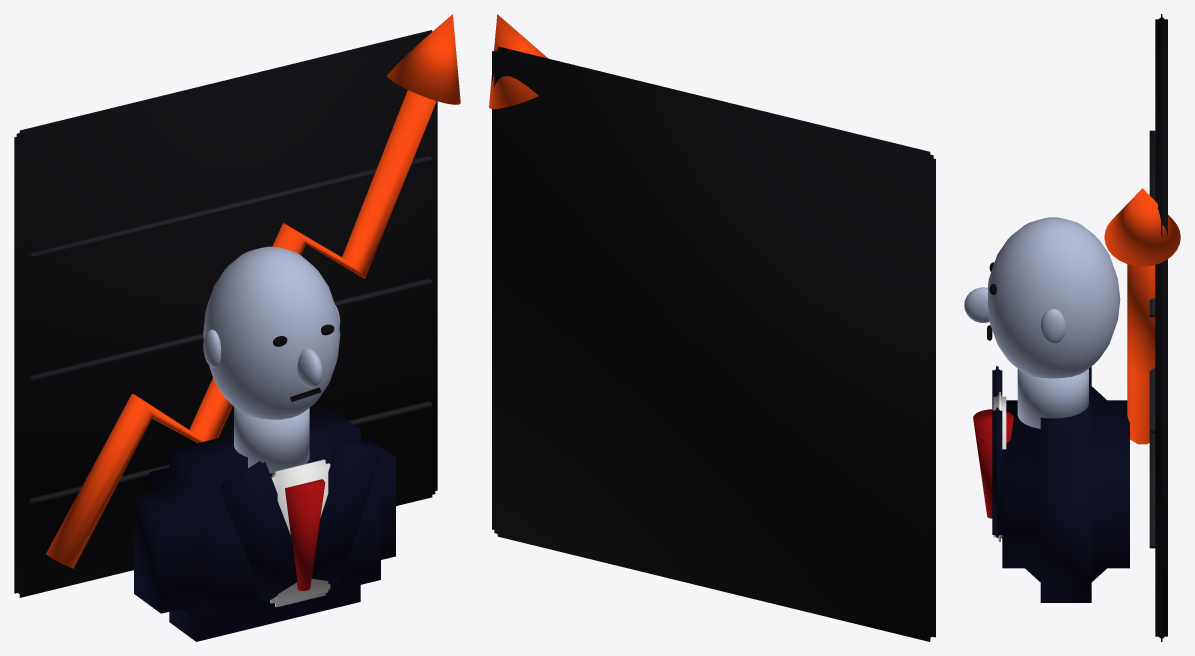
File: StonksHead.fbx
3 views of the same model, side by side, from view 1: azimuth 30°, elevation 25°; view 2: azimuth 150°, elevation 25°; view 3: azimuth 270°, elevation 25° (orthographic). The views are drawn at different scales.
Visible parts, largest first — view 1: StonksHead; view 2: StonksHead; view 3: StonksHead.
Part boxes in pixels (bbox=[...]): StonksHead: bbox=[14, 14, 460, 641]; StonksHead: bbox=[489, 14, 935, 641]; StonksHead: bbox=[964, 14, 1180, 641].
Bounding box in the file's own units: 3.67 × 4.17 × 1.7.
Materials: 1 (1 with a texture image).
